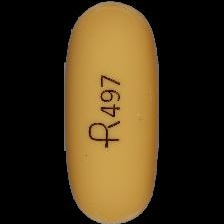50268-600: (0, 0, 224, 224)
